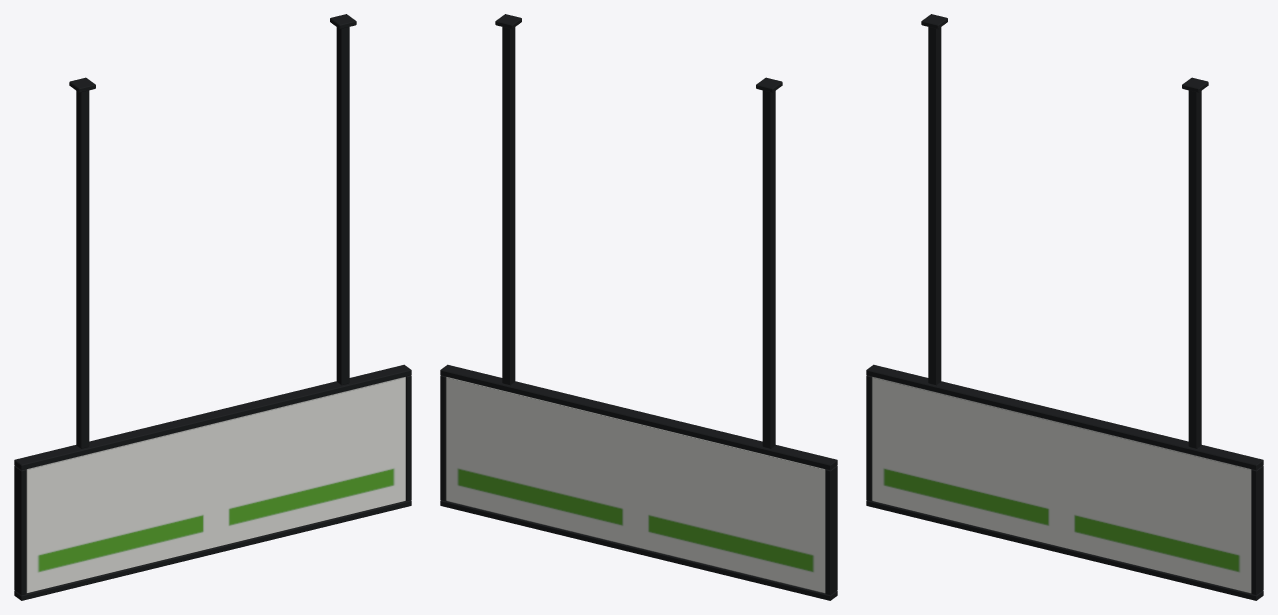
Rendered from sign_hang.fbx.
3 views of the same model, side by side, from view 1: azimuth 30°, elevation 25°; view 2: azimuth 150°, elevation 25°; view 3: azimuth 330°, elevation 25° (orthographic).
Parts seen in each view (by area): view 1: sign_hang; view 2: sign_hang; view 3: sign_hang.
Boxes of the visible parts, x1,y1,x2,y2 form: sign_hang: [14, 14, 411, 600]; sign_hang: [440, 14, 837, 600]; sign_hang: [866, 14, 1263, 600].
Bounding box in the file's own units: 1.8 × 0.08 × 2.2.
1 material, 1 textured.
